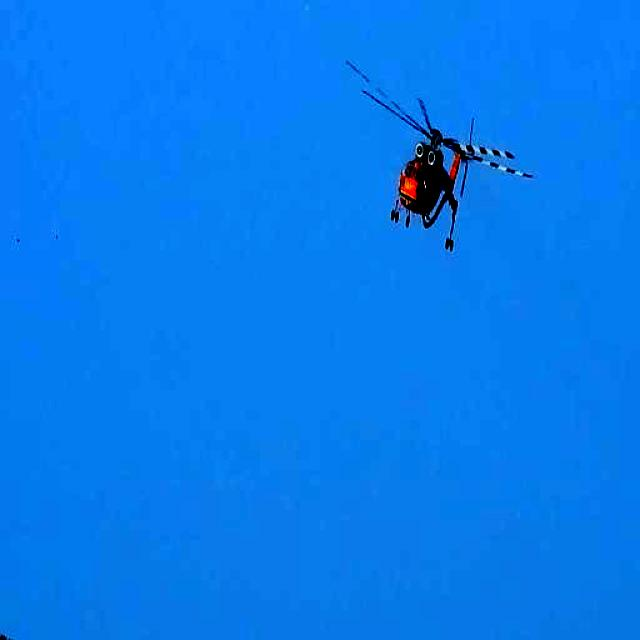drone: (345, 48, 529, 256)
